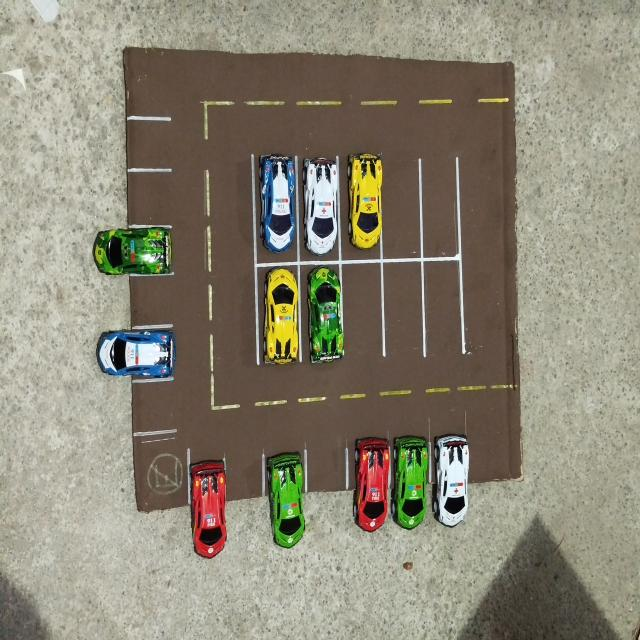libre: (420, 151, 460, 258), (342, 263, 385, 359), (384, 153, 423, 258), (423, 258, 462, 358), (384, 260, 423, 358), (114, 384, 181, 433), (115, 169, 172, 226), (307, 445, 346, 524), (115, 118, 173, 170), (112, 276, 172, 326), (225, 455, 265, 512)
no_estacionarse: (116, 435, 188, 510)
ocupado: (252, 150, 300, 264), (300, 148, 341, 264), (253, 263, 300, 364), (298, 262, 344, 363), (342, 149, 383, 261), (348, 436, 390, 526), (431, 429, 469, 527), (393, 431, 430, 525), (112, 330, 175, 380), (113, 226, 174, 275), (264, 454, 306, 518), (190, 456, 227, 508)
